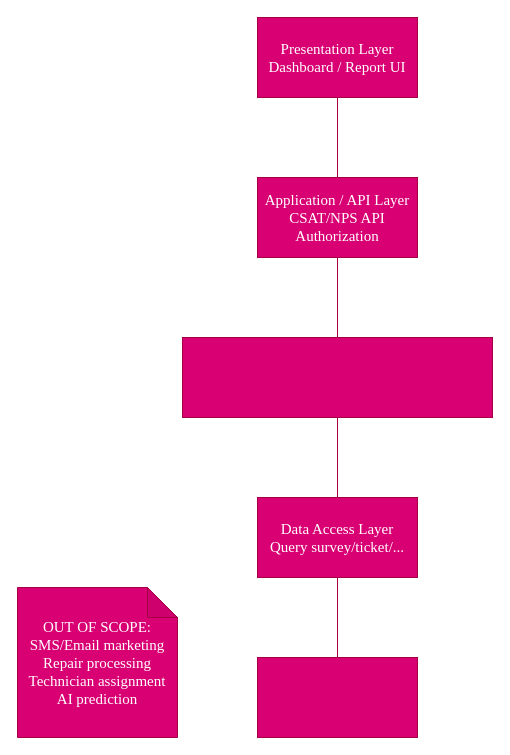
Some shapes in this 510 by 755 pixel diagram are drawn without their labels. Each missing label, with the box of its shape:
Database: (256, 656, 418, 738)
Service Layer Calculate CSAT/NPS Filter by date/center/technician Mask phone: (182, 336, 492, 418)
